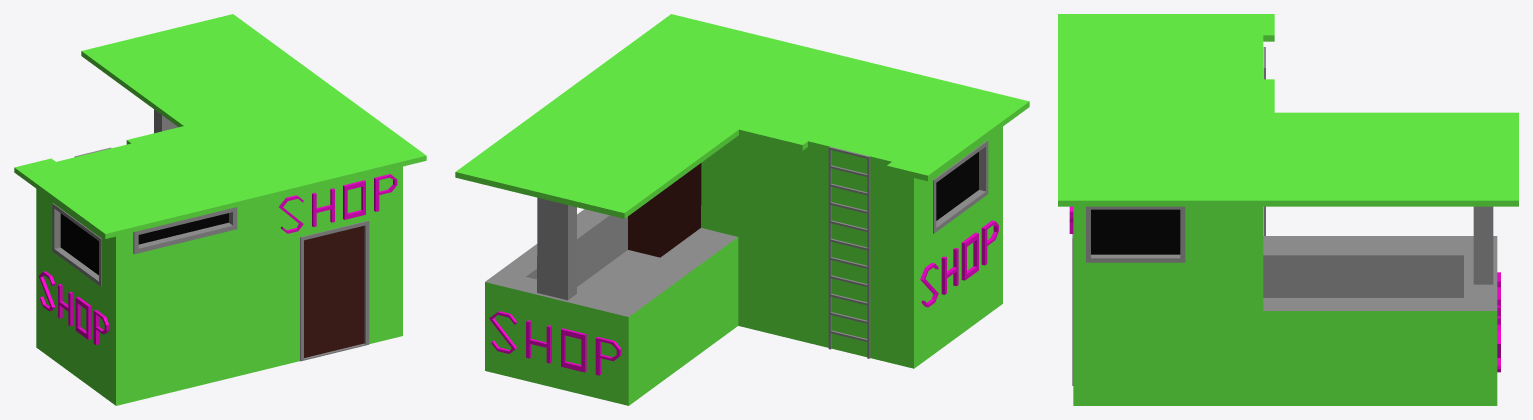
The model's file is Shop.FBX.
The picture shows the model from 3 angles, left to right: view 1: azimuth 30°, elevation 25°; view 2: azimuth 150°, elevation 25°; view 3: azimuth 270°, elevation 25°; orthographic projection. The views are drawn at different scales.
Parts seen in each view (by area): view 1: Shack 2x1; view 2: Shack 2x1, Ladder; view 3: Shack 2x1.
Boxes of the visible parts, <box> form: Shack 2x1: <box>14,14,426,405</box>; Shack 2x1: <box>455,14,1029,405</box>; Ladder: <box>828,146,870,358</box>; Shack 2x1: <box>1058,14,1518,405</box>.
Size of the model in its own units: 186 by 100 by 194.
